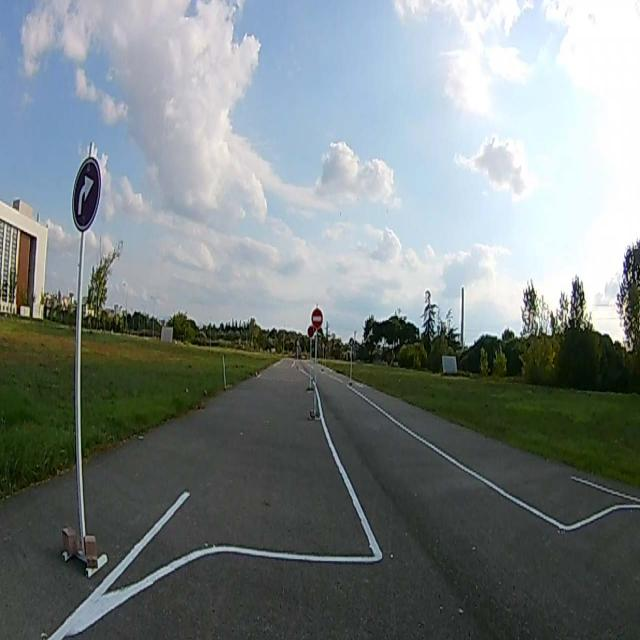girisyok: (310, 304, 324, 328)
sag: (73, 159, 100, 226)
